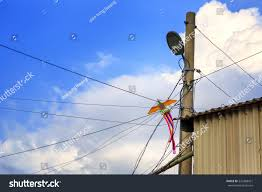kite: (148, 98, 180, 156)
